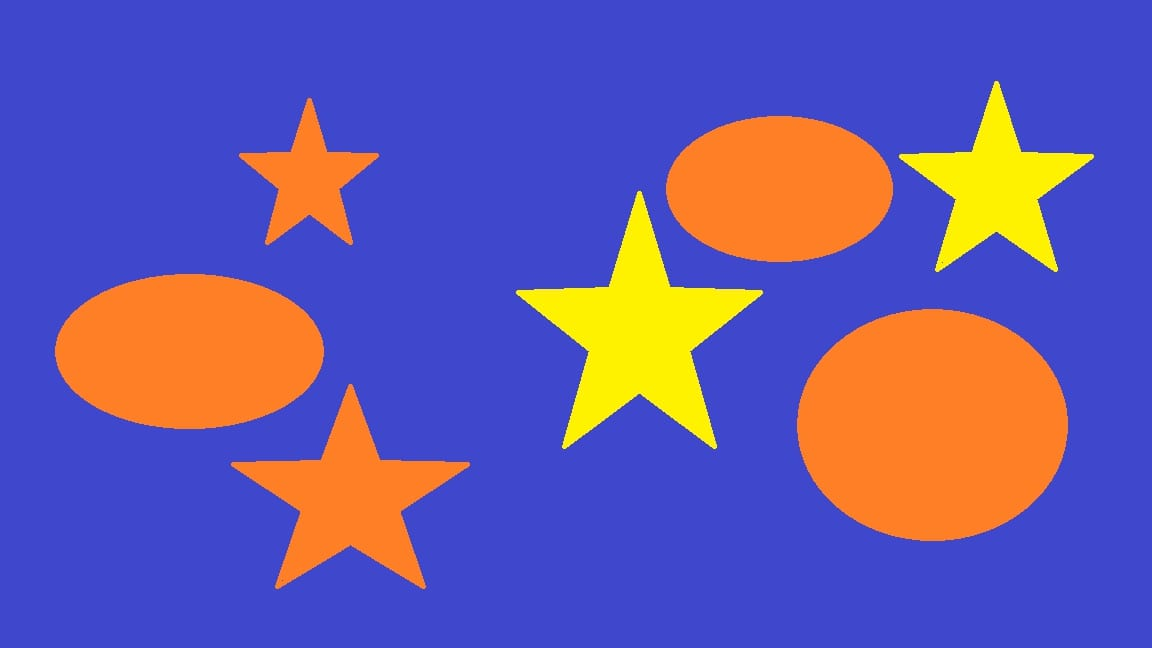Oval: (793, 306, 1068, 541), (49, 268, 326, 429), (662, 112, 894, 262)
Star: (518, 191, 761, 449), (227, 386, 470, 592), (897, 86, 1091, 274), (239, 94, 380, 247)
